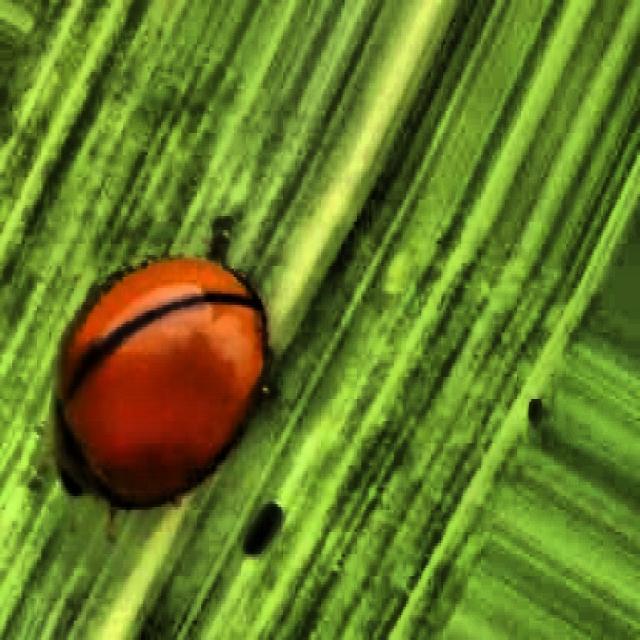Ladybug: (19, 184, 310, 605)
